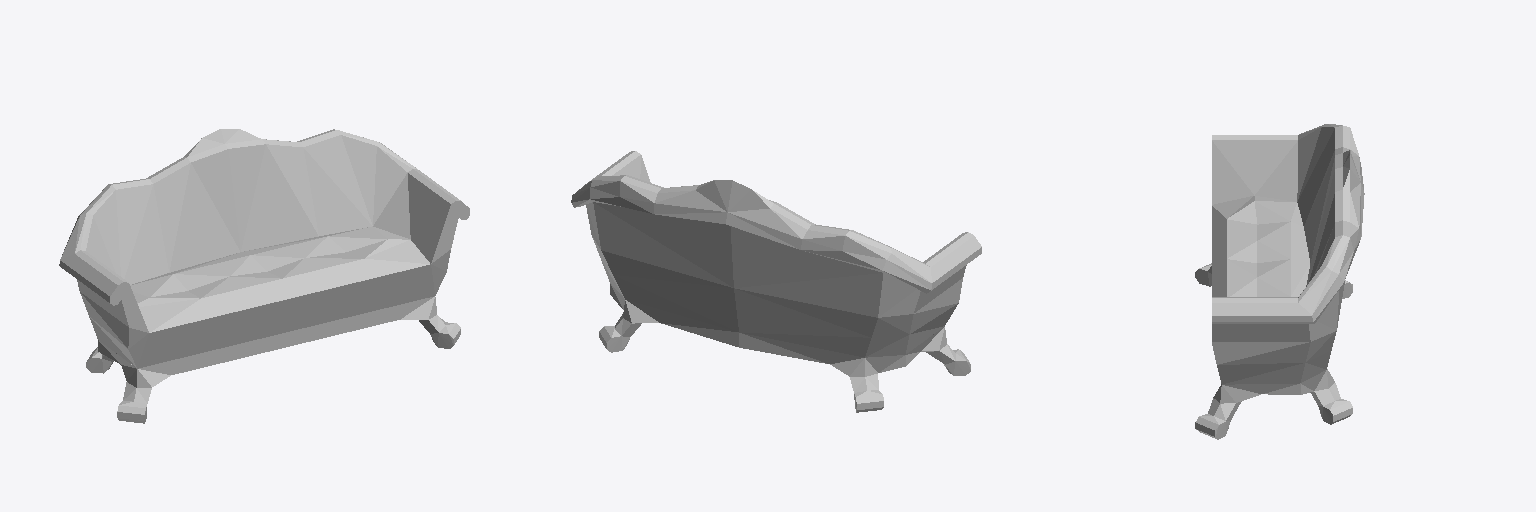
File: sofa.obj
The picture shows the model from 3 angles: view 1: azimuth 30°, elevation 25°; view 2: azimuth 150°, elevation 25°; view 3: azimuth 270°, elevation 25°; orthographic projection.
Parts seen in each view (by area): view 1: polySurface2; view 2: polySurface2; view 3: polySurface2.
Boxes of the visible parts, <box> form: polySurface2: <box>59,129,469,423</box>; polySurface2: <box>571,151,981,412</box>; polySurface2: <box>1195,124,1364,439</box>.
Size of the model in its own units: 2.4 by 1.29 by 0.9764.